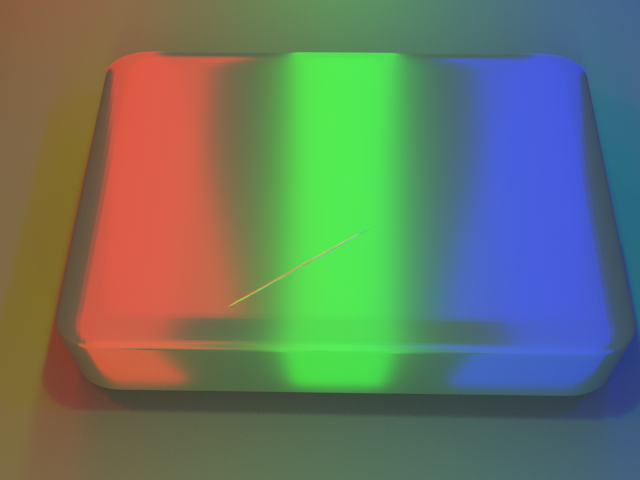scratch: (48, 132, 551, 272)
